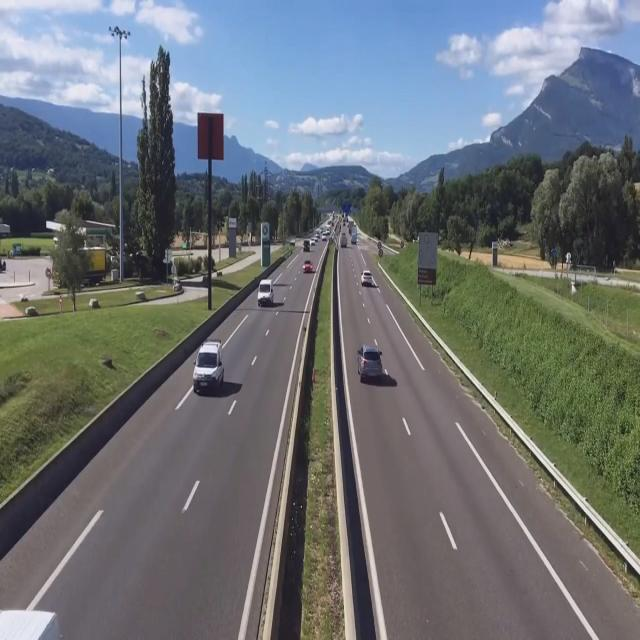car: (194, 341, 227, 395), (355, 343, 385, 385), (258, 278, 276, 306), (360, 271, 372, 289)
